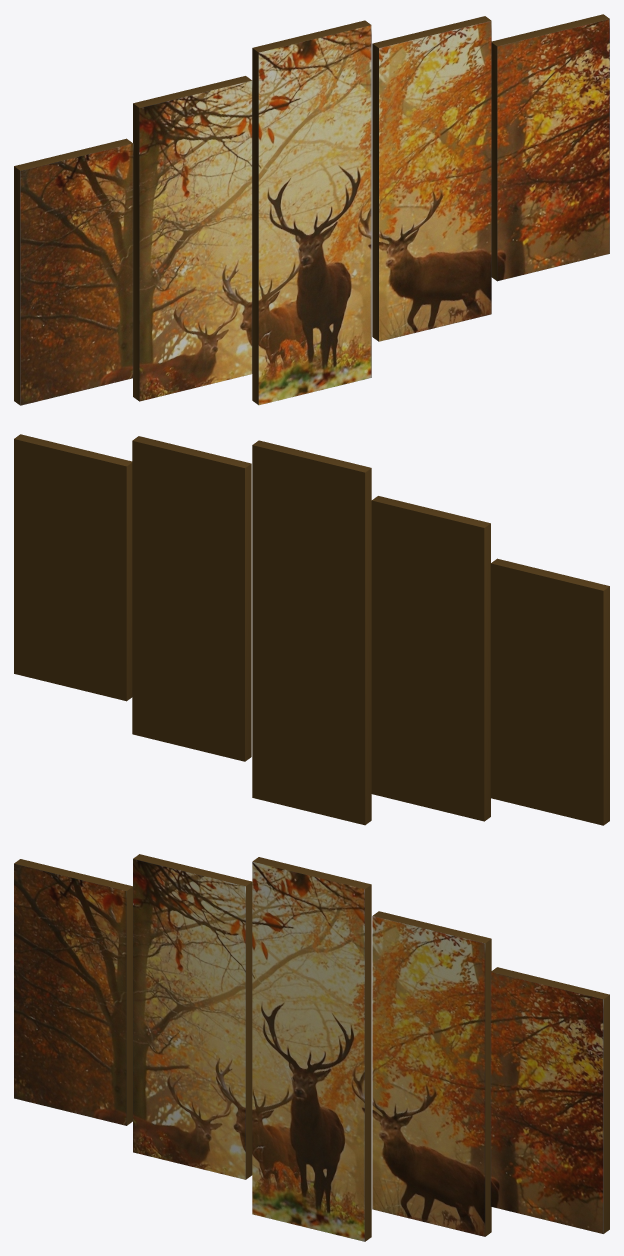
The model's file is Frames.glb.
3 views of the same model, one above another, from view 1: azimuth 30°, elevation 25°; view 2: azimuth 150°, elevation 25°; view 3: azimuth 330°, elevation 25° (orthographic).
Parts seen in each view (by area): view 1: Mosaic painting; view 2: Mosaic painting; view 3: Mosaic painting.
Boxes of the visible parts, bbox=[...] form: Mosaic painting: bbox=[14, 14, 609, 405]; Mosaic painting: bbox=[14, 434, 609, 825]; Mosaic painting: bbox=[14, 854, 609, 1241].
Size of the model in its own units: 2.11 by 1.21 by 0.04.
Materials: 2 (1 with a texture image).
